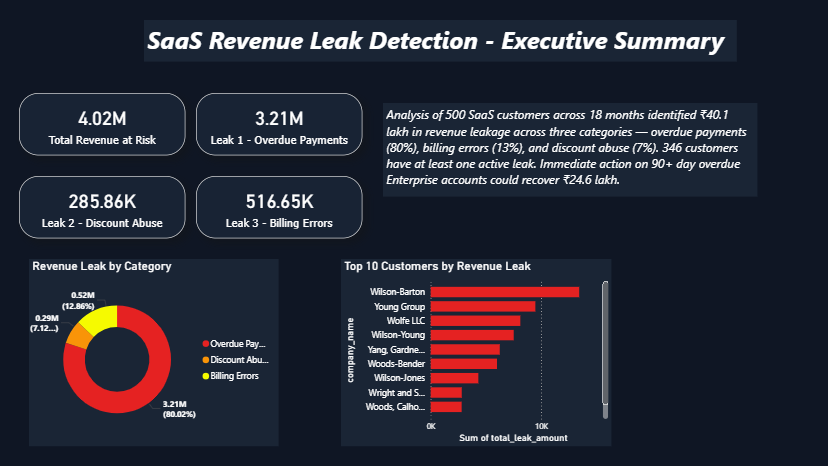

The page's visual inventory and layout, read from the dashboard file:
{"tool":"powerbi","page":{"name":"Executive Summary","canvas":[1280,720],"ordinal":0},"visuals":[{"type":"textbox","box":[224,32,912,64],"z":0},{"type":"card","fields":{"Values":["Sum(Master_Leak_Summary.total_leak_amount)"]},"box":[32,144,256,96],"z":1000},{"type":"card","fields":{"Values":["Sum(Master_Leak_Summary.leak1_overdue)"]},"box":[304,144,256,96],"z":2000},{"type":"card","fields":{"Values":["Sum(Master_Leak_Summary.leak2_discount_abuse)"]},"box":[32,272,256,96],"z":3000},{"type":"card","fields":{"Values":["Sum(Master_Leak_Summary.leak3_billing_error)"]},"box":[304,272,256,96],"z":4000},{"type":"donutChart","title":"Revenue Leak by Category","fields":{"Y":["Sum(Master_Leak_Summary.leak1_overdue)","Sum(Master_Leak_Summary.leak2_discount_abuse)","Sum(Master_Leak_Summary.leak3_billing_error)"]},"box":[48,400,384,288],"z":5000},{"type":"barChart","title":"Top 10 Customers by Revenue Leak","fields":{"Category":["Master_Leak_Summary.company_name"],"Y":["Sum(Master_Leak_Summary.total_leak_amount)"]},"box":[528,400,416,288],"z":6000},{"type":"textbox","box":[592,160,576,144],"z":7000}]}

Visuals, with their boxes in screenshot pixels (x1, y1, x2, y2), scaled from the page's 1280x720 canvas onto the 828x466 screenshot:
textbox: [x1=145, y1=21, x2=735, y2=62]
card - Sum(Master_Leak_Summary.total_leak_amount): [x1=21, y1=93, x2=186, y2=155]
card - Sum(Master_Leak_Summary.leak1_overdue): [x1=197, y1=93, x2=362, y2=155]
card - Sum(Master_Leak_Summary.leak2_discount_abuse): [x1=21, y1=176, x2=186, y2=238]
card - Sum(Master_Leak_Summary.leak3_billing_error): [x1=197, y1=176, x2=362, y2=238]
"Revenue Leak by Category" donutChart: [x1=31, y1=259, x2=279, y2=445]
"Top 10 Customers by Revenue Leak" barChart: [x1=342, y1=259, x2=611, y2=445]
textbox: [x1=383, y1=104, x2=756, y2=197]
